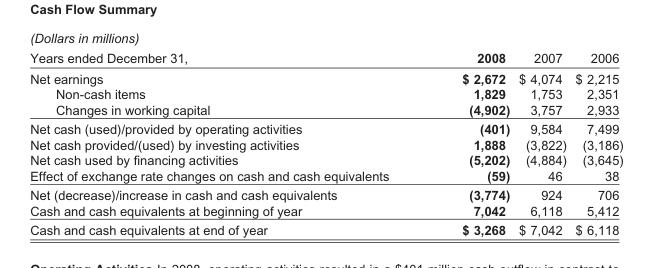table: (29, 29, 622, 236)
table column: (29, 29, 424, 236), (424, 29, 513, 236), (513, 29, 570, 236), (570, 29, 622, 236)
table column header: (29, 29, 622, 67)
table row: (29, 29, 622, 67), (29, 67, 622, 85), (29, 118, 622, 136), (29, 184, 622, 202), (29, 101, 622, 118), (29, 167, 622, 184), (29, 202, 622, 219), (29, 219, 622, 236), (29, 85, 622, 101), (29, 151, 622, 167), (29, 136, 622, 151)
